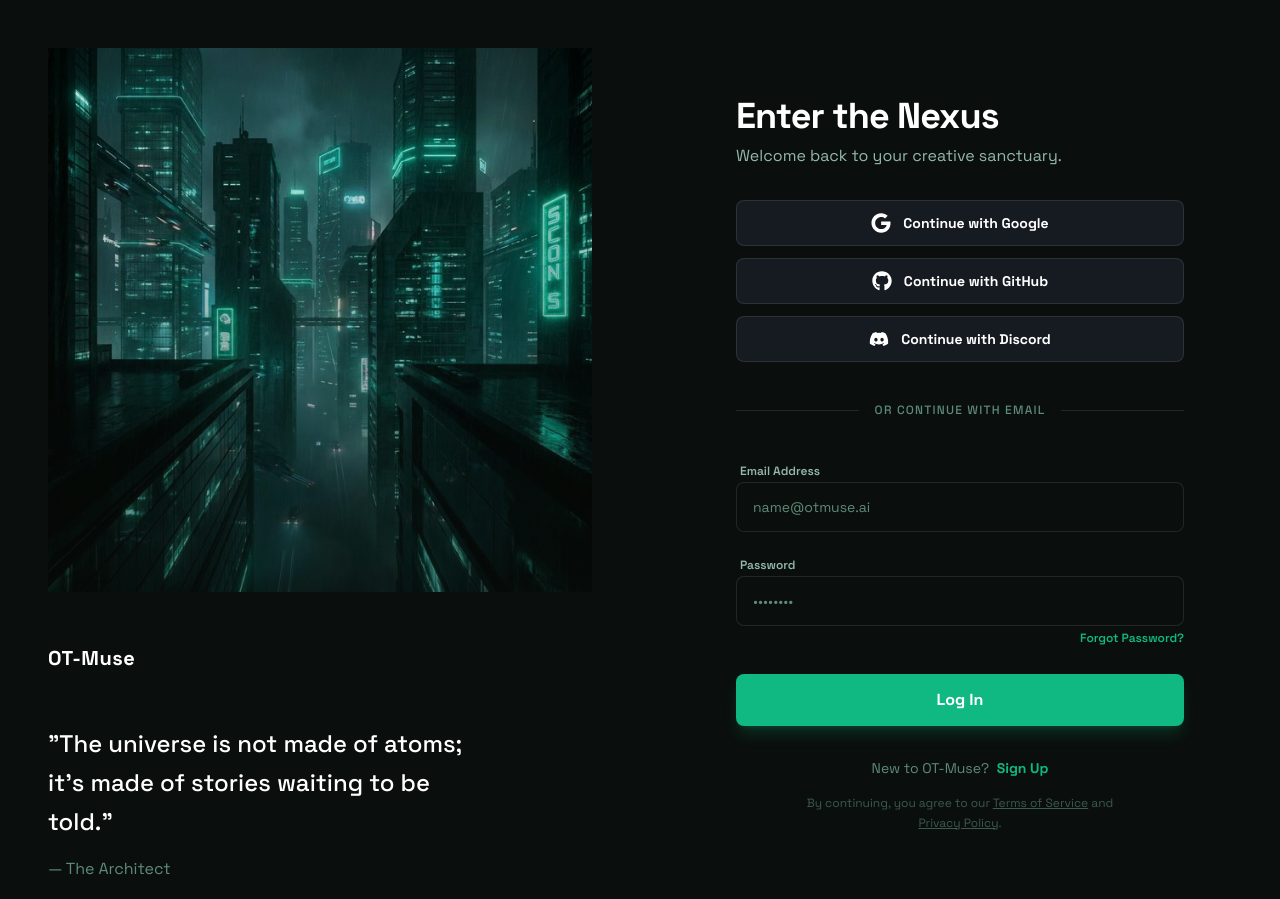
Scenario: LoginPage › shows error for invalid email format
Type "not-an-email" into the field labelled "Email Address".
click(960, 507); type("not-an-email")  # box left=736, top=482, right=1184, bottom=532
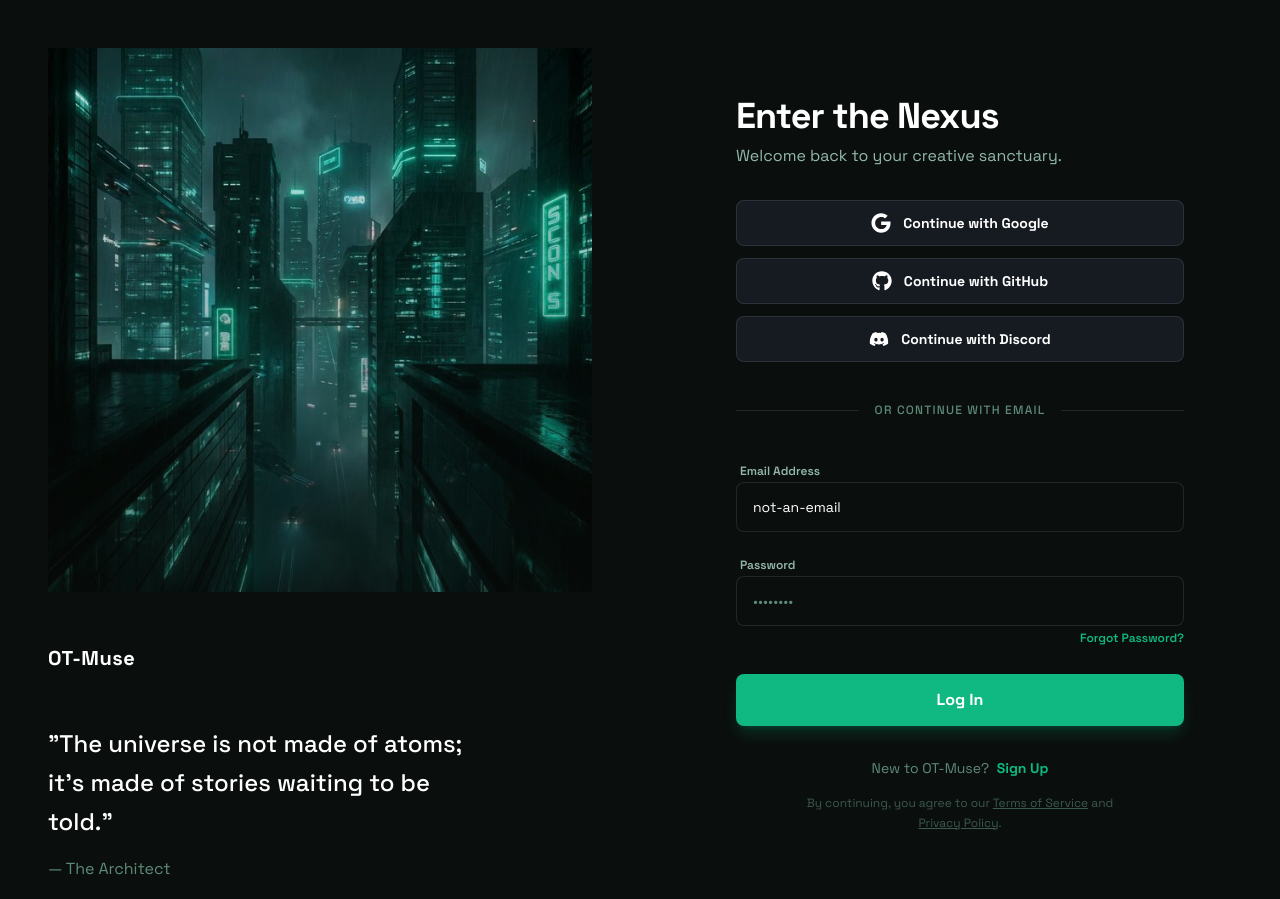
Click the button "Log In".
click(960, 700)  # box left=736, top=674, right=1184, bottom=726
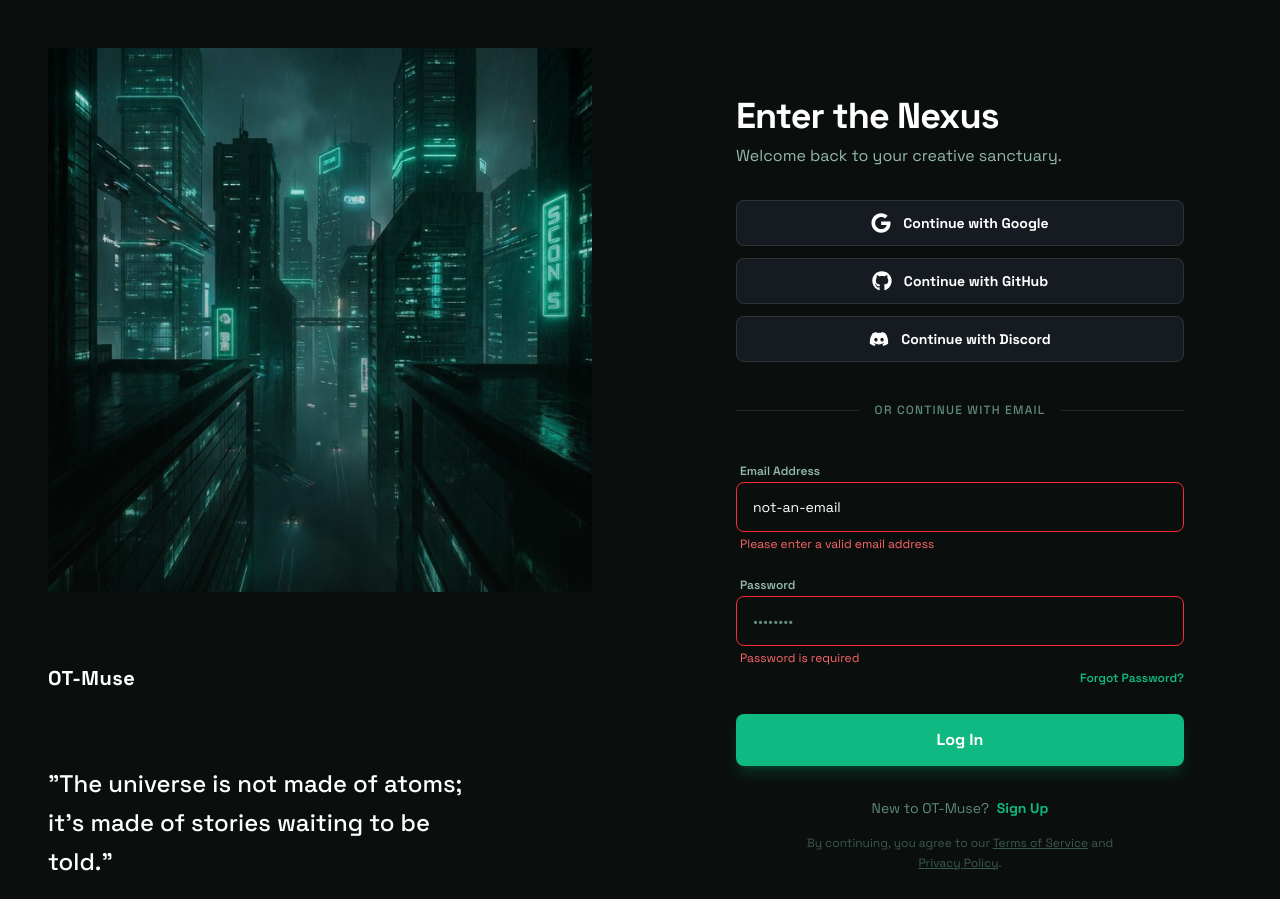
Now the text "Please enter a valid email address" is shown, box left=740, top=536, right=934, bottom=552
